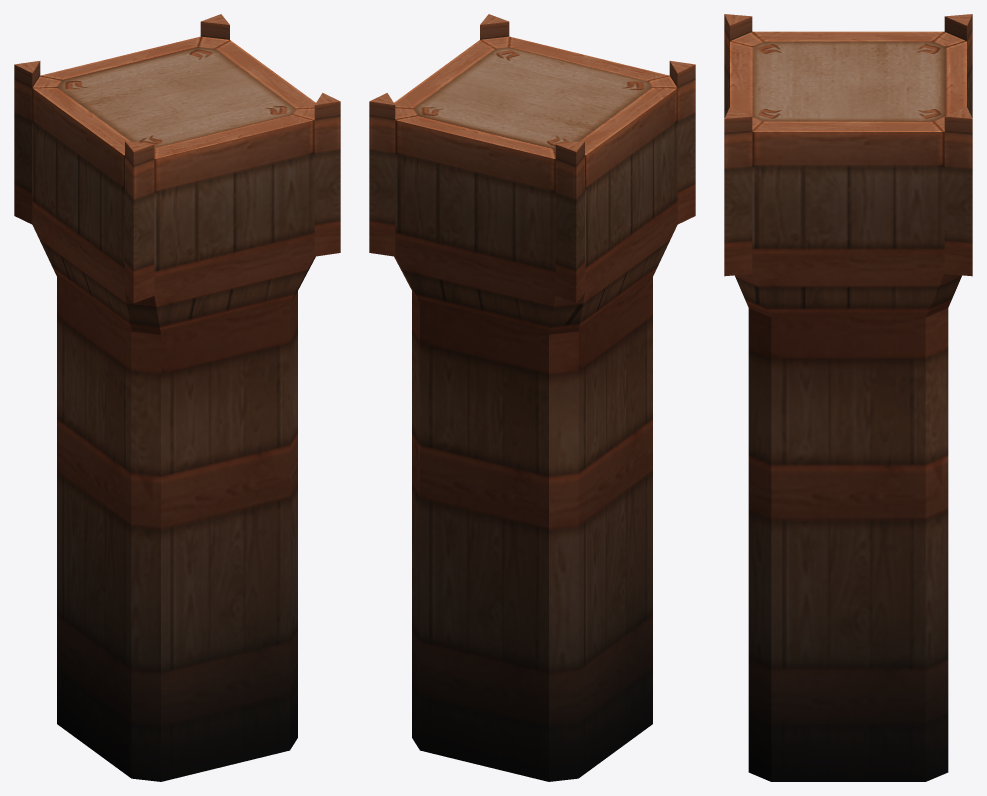
The model's file is GHmG_3_01.FBX.
3 views of the same model, side by side, from view 1: azimuth 30°, elevation 25°; view 2: azimuth 150°, elevation 25°; view 3: azimuth 270°, elevation 25° (orthographic). The views are drawn at different scales.
Parts seen in each view (by area): view 1: Box671; view 2: Box671; view 3: Box671.
Part boxes in pixels (x1=…): Box671: x1=14, y1=14, x2=340, y2=781; Box671: x1=369, y1=14, x2=695, y2=781; Box671: x1=724, y1=14, x2=972, y2=781.
Bounding box in the file's own units: 2.09 × 6.26 × 2.09.
